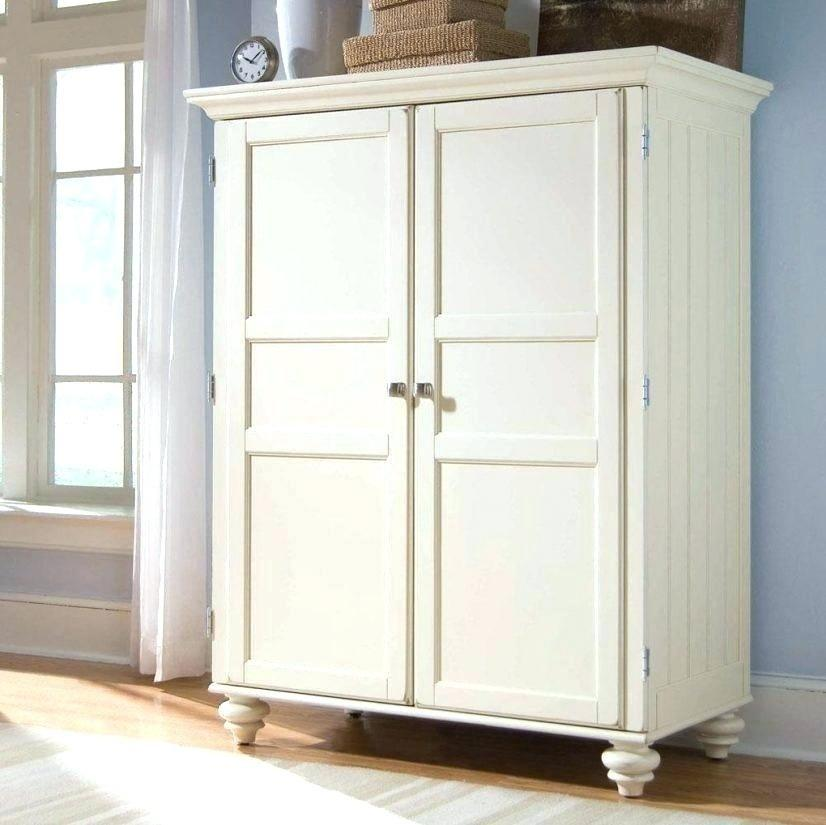cabinet_door: (416, 100, 624, 714), (235, 116, 412, 705)
handle: (387, 371, 410, 409), (416, 373, 434, 413)
